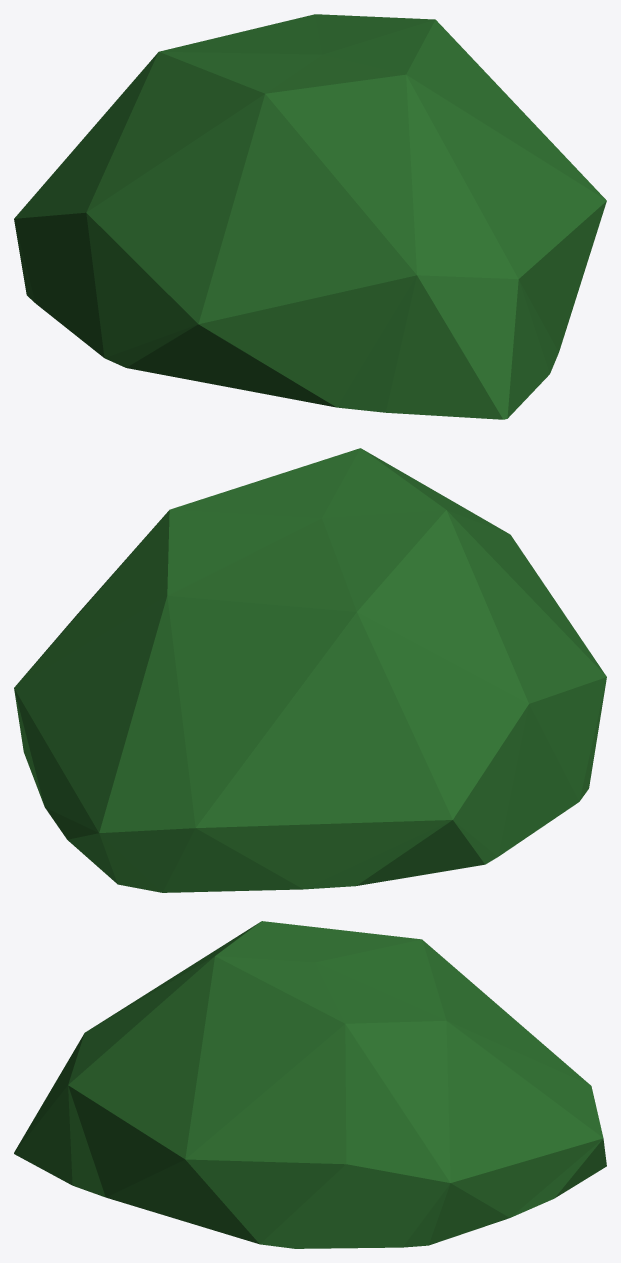
The model's file is bush1.dae.
3 renders of one model, top to bottom at view 1: azimuth 30°, elevation 25°; view 2: azimuth 150°, elevation 25°; view 3: azimuth 270°, elevation 25°, orthographic. The views are drawn at different scales.
Parts seen in each view (by area): view 1: Bush1.1; view 2: Bush1.1; view 3: Bush1.1.
Part boxes in pixels (x1,y1,x2,y2): Bush1.1: (14, 14, 606, 419); Bush1.1: (14, 448, 606, 892); Bush1.1: (14, 921, 606, 1248).
Size of the model in its own units: 2.3 by 3.05 by 1.19.
1 material, 1 textured.
